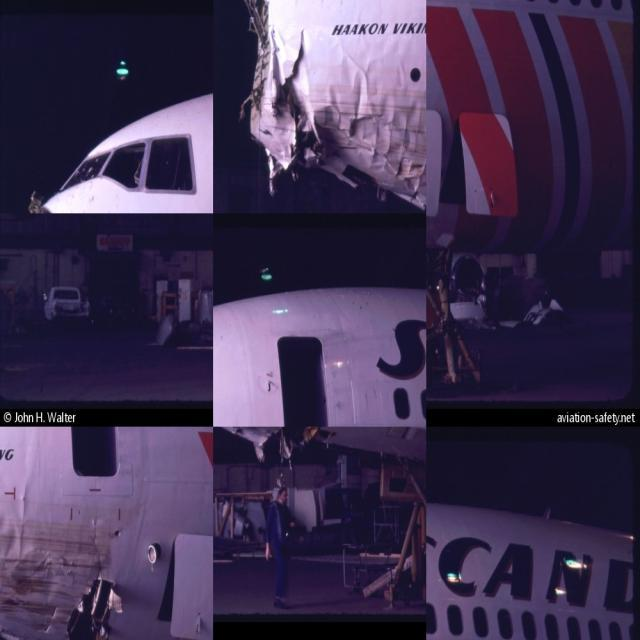crack: (283, 33, 310, 103), (88, 516, 109, 581)
dent: (351, 69, 371, 117), (4, 524, 23, 561), (402, 100, 422, 131), (329, 81, 344, 119), (382, 93, 395, 126)
